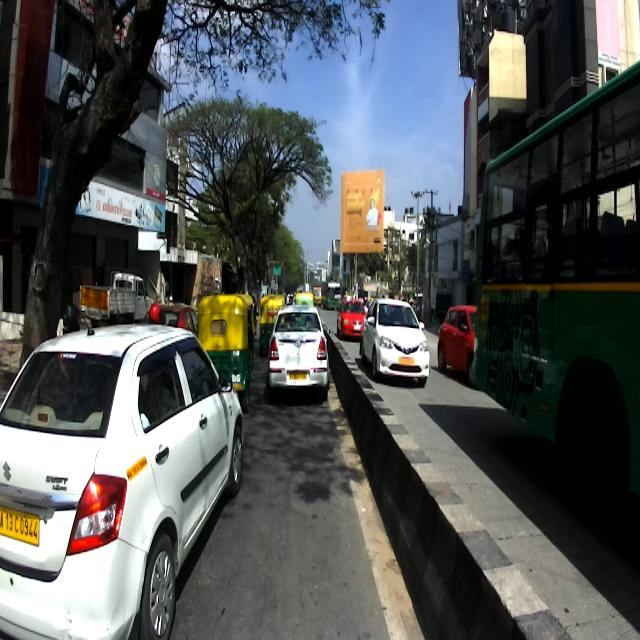car ahead at: (0, 329, 247, 640), (268, 301, 332, 407), (364, 290, 430, 392)
